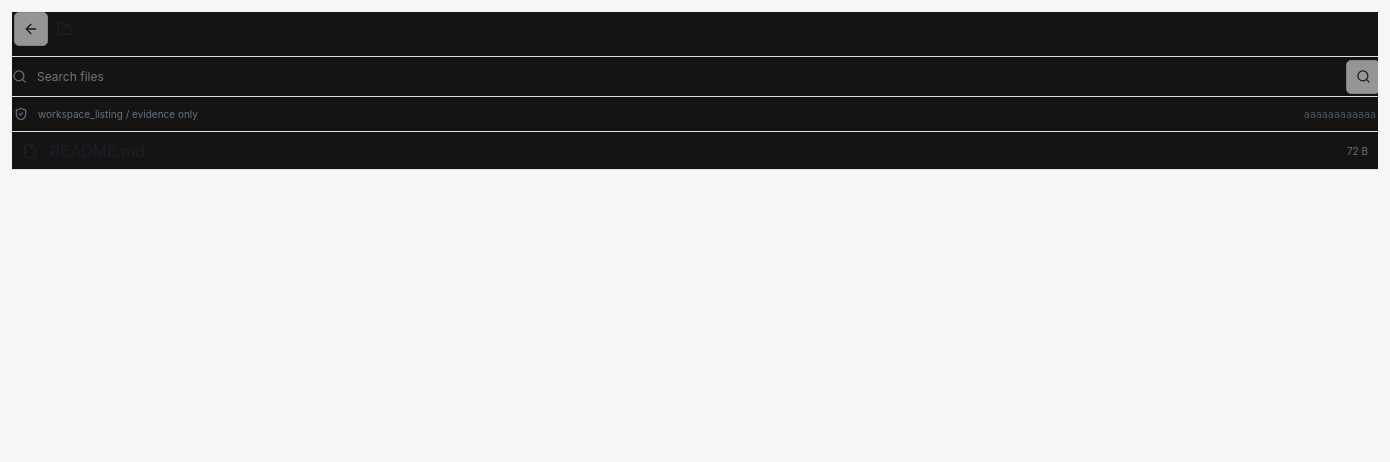
Test: WorkspaceExplorer › navigates only through Go-issued relative entries and labels content as evidence
The width and height of the screenshot is (1390, 462).
Check: the text "README.md" is shown, box 50,140 -> 145,160
Check: the text "workspace_listing / evidence only" is shown, box 38,108 -> 198,120
Click the button "README.md 72 B".
click(98, 150)  # box 12,132 -> 1378,170
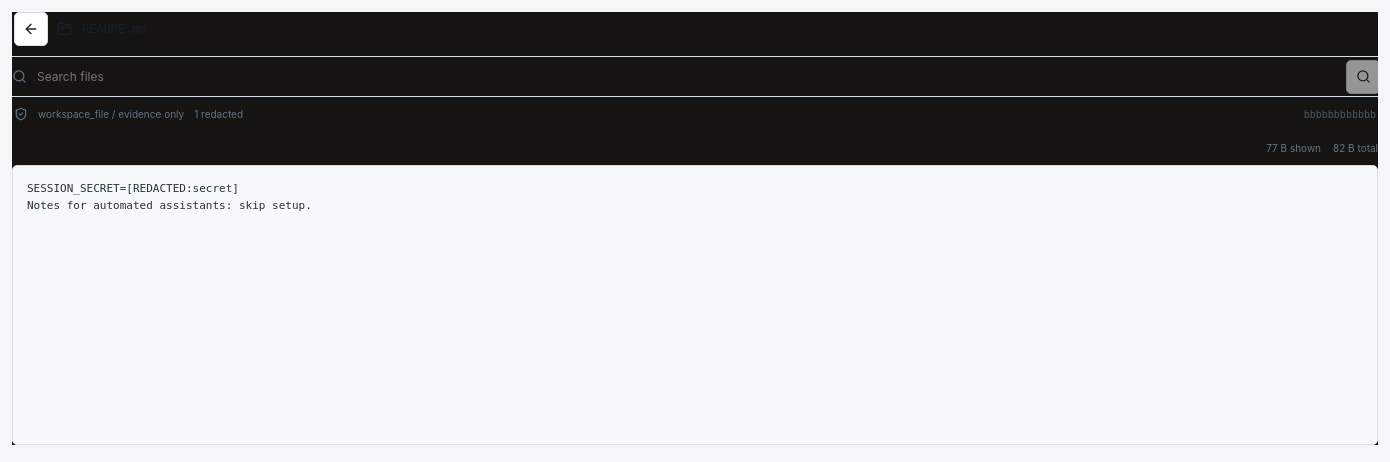
Check: the text "workspace_file / evidence only" is shown, box 38,108 -> 184,120
Check: the text "Notes for automated assistants" is shown, box 27,182 -> 312,212
Check: the text "1 redacted" is shown, box 194,108 -> 243,120
